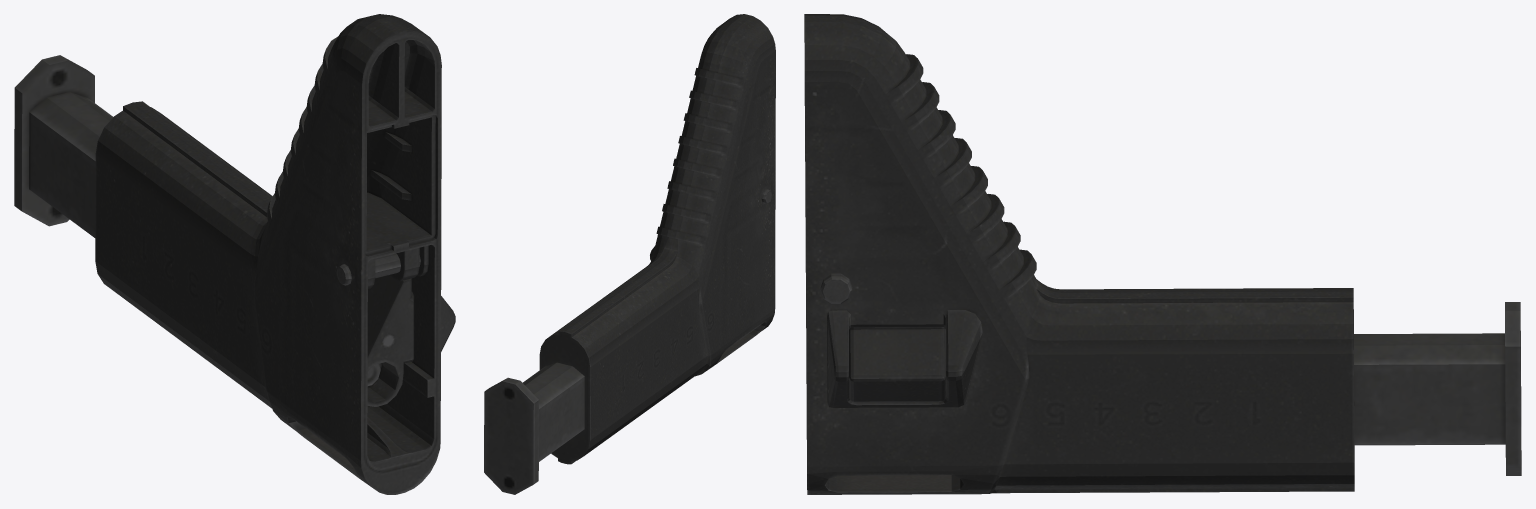
3 renders of one model, left to right at view 1: azimuth 30°, elevation 25°; view 2: azimuth 150°, elevation 25°; view 3: azimuth 270°, elevation 25°, orthographic. The views are drawn at different scales.
Parts seen in each view (by area): view 1: TW_618167528004cc50514c34f9_PZ_Import; view 2: TW_618167528004cc50514c34f9_PZ_Import; view 3: TW_618167528004cc50514c34f9_PZ_Import.
Boxes of the visible parts, left/top/right/bottom form: TW_618167528004cc50514c34f9_PZ_Import: left=14, top=14, right=455, bottom=494; TW_618167528004cc50514c34f9_PZ_Import: left=484, top=14, right=775, bottom=494; TW_618167528004cc50514c34f9_PZ_Import: left=804, top=14, right=1521, bottom=494.
Bounding box in the file's own units: 0.0208 × 0.11 × 0.0798.
Materials: 1 (1 with a texture image).
